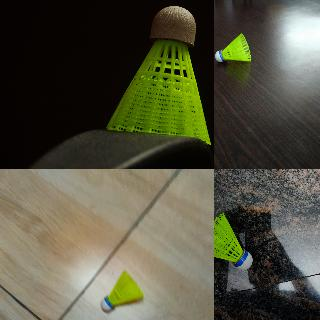shuttlecock: (106, 7, 210, 144), (214, 213, 252, 269), (101, 270, 143, 310), (215, 34, 251, 62)
